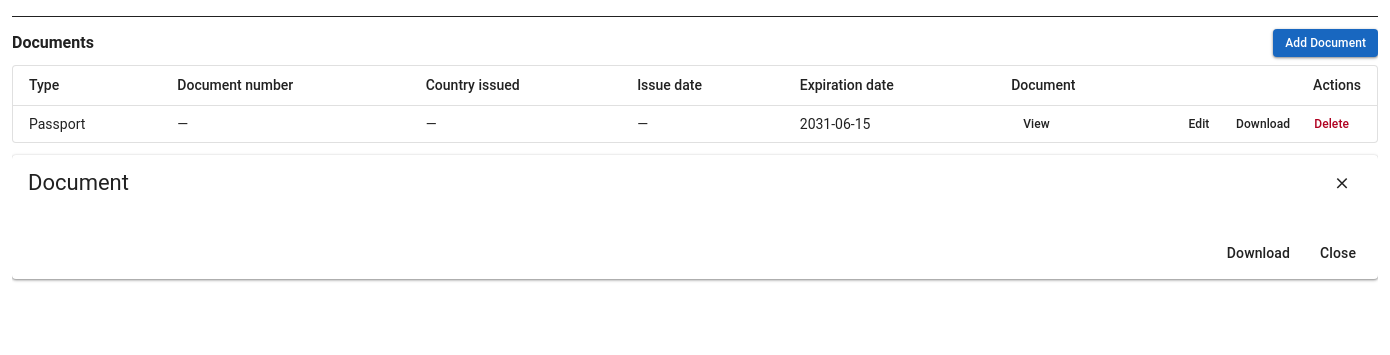
Feature 96 — Convert HEIC Uploads to JPEG › US-96.1 — HEIC documents can be viewed and downloaded as JPEG › A leftover HEIC document shows a message instead of the image
Step 1. Click the button "View" → (1036, 124), box [1011,110,1062,138]
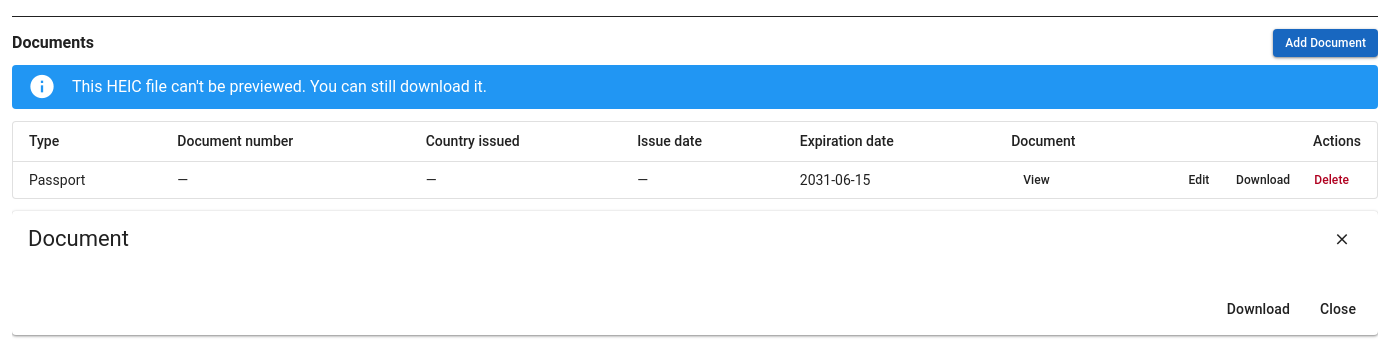
Now the text "This HEIC file can't be previewed. You can still download it." is shown, box [72,77,487,96]
